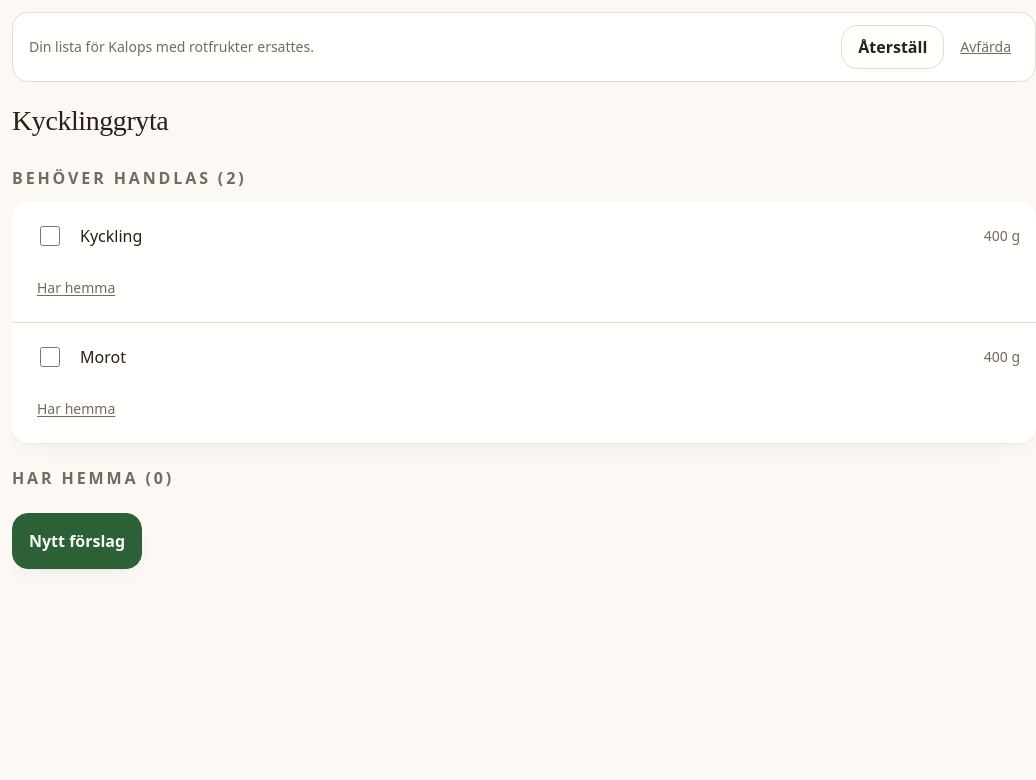
Test: a displaced shopping list (#202) › retires the offer once the new list has work of its own
Check: the text "Din lista för Kalops med rotfrukter ersattes." is shown, box [29,37,314,56]
Step 1. Click the 1st checkbox → (50,236), box [40,226,60,246]
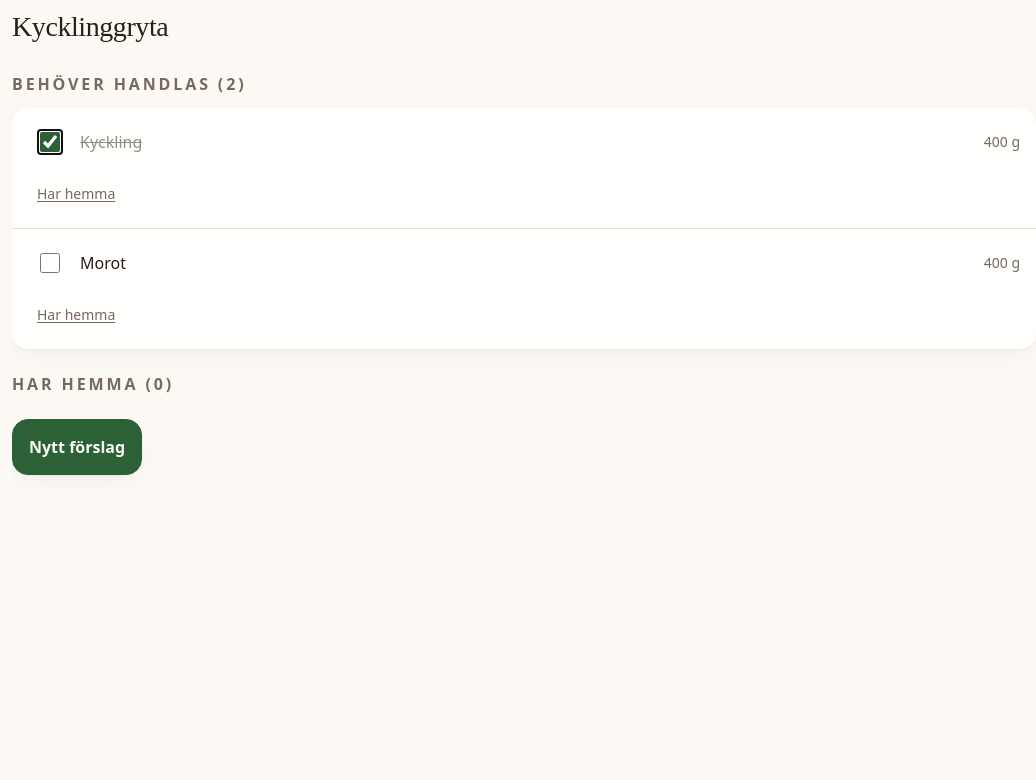
Check: the text "ersattes" is gone
